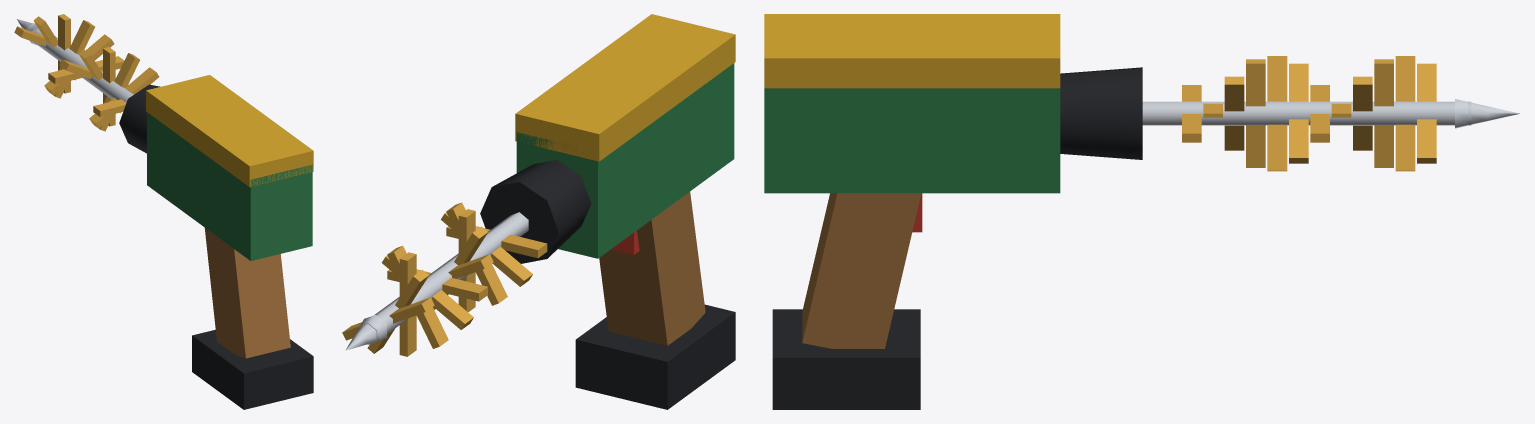
File: tool_drill.glb
The picture shows the model from 3 angles, left to right: view 1: azimuth 30°, elevation 25°; view 2: azimuth 150°, elevation 25°; view 3: azimuth 270°, elevation 25°; orthographic projection. The views are drawn at different scales.
Visible parts, largest first — view 1: _MeshInstance3D_1053, _MeshInstance3D_1054, _MeshInstance3D_1051, _MeshInstance3D_1052, _MeshInstance3D_1056, _MeshInstance3D_1057, _MeshInstance3D_1059, _MeshInstance3D_1060, _MeshInstance3D_1066, _MeshInstance3D_1065, _MeshInstance3D_1061, _MeshInstance3D_1067 (+6 smaller); view 2: _MeshInstance3D_1054, _MeshInstance3D_1053, _MeshInstance3D_1051, _MeshInstance3D_1052, _MeshInstance3D_1056, _MeshInstance3D_1057, _MeshInstance3D_1067, _MeshInstance3D_1066, _MeshInstance3D_1060, _MeshInstance3D_1065, _MeshInstance3D_1059, _MeshInstance3D_1061 (+8 smaller); view 3: _MeshInstance3D_1053, _MeshInstance3D_1054, _MeshInstance3D_1051, _MeshInstance3D_1052, _MeshInstance3D_1056, _MeshInstance3D_1057, _MeshInstance3D_1062, _MeshInstance3D_1068, _MeshInstance3D_1061, _MeshInstance3D_1067, _MeshInstance3D_1063, _MeshInstance3D_1069 (+5 smaller).
Boxes of the visible parts, x1,y1,x2,y2 form: _MeshInstance3D_1053: [147, 112, 312, 260]; _MeshInstance3D_1054: [146, 75, 313, 186]; _MeshInstance3D_1051: [204, 228, 290, 358]; _MeshInstance3D_1052: [192, 329, 313, 409]; _MeshInstance3D_1056: [119, 84, 160, 153]; _MeshInstance3D_1057: [27, 23, 133, 102]; _MeshInstance3D_1059: [89, 67, 159, 127]; _MeshInstance3D_1060: [93, 53, 139, 131]; _MeshInstance3D_1066: [48, 20, 94, 98]; _MeshInstance3D_1065: [44, 34, 114, 94]; _MeshInstance3D_1061: [103, 47, 115, 126]; _MeshInstance3D_1067: [58, 14, 70, 93]; _MeshInstance3D_1054: [515, 14, 735, 161]; _MeshInstance3D_1053: [516, 63, 734, 258]; _MeshInstance3D_1051: [599, 191, 705, 345]; _MeshInstance3D_1052: [575, 304, 735, 409]; _MeshInstance3D_1056: [480, 159, 591, 263]; _MeshInstance3D_1057: [359, 212, 528, 344]; _MeshInstance3D_1067: [399, 252, 416, 356]; _MeshInstance3D_1066: [387, 245, 448, 348]; _MeshInstance3D_1060: [446, 202, 507, 305]; _MeshInstance3D_1065: [381, 255, 473, 329]; _MeshInstance3D_1059: [441, 212, 532, 286]; _MeshInstance3D_1061: [458, 209, 475, 312]; _MeshInstance3D_1053: [764, 88, 1060, 193]; _MeshInstance3D_1054: [764, 14, 1060, 88]; _MeshInstance3D_1051: [802, 193, 921, 348]; _MeshInstance3D_1052: [772, 309, 920, 409]; _MeshInstance3D_1056: [1060, 67, 1142, 159]; _MeshInstance3D_1057: [1142, 101, 1471, 125]; _MeshInstance3D_1062: [1267, 56, 1287, 171]; _MeshInstance3D_1068: [1395, 56, 1415, 171]; _MeshInstance3D_1061: [1246, 59, 1265, 167]; _MeshInstance3D_1067: [1374, 59, 1393, 167]; _MeshInstance3D_1063: [1289, 63, 1308, 163]; _MeshInstance3D_1069: [1417, 63, 1436, 163].
Size of the model in its own units: 0.07 by 0.2345 by 0.46.
